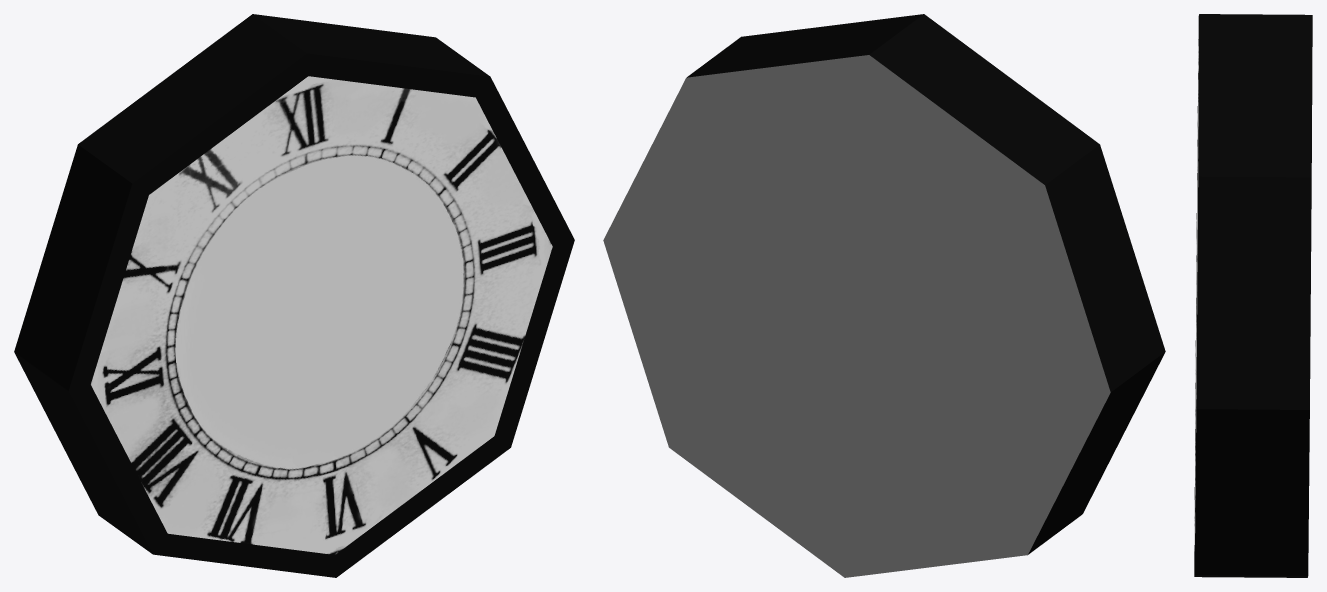
File: clock 1.fbx
The picture shows the model from 3 angles, left to right: view 1: azimuth 30°, elevation 25°; view 2: azimuth 150°, elevation 25°; view 3: azimuth 270°, elevation 25°; orthographic projection. The views are drawn at different scales.
Visible parts, largest first — view 1: pCylinder1; view 2: pCylinder1; view 3: pCylinder1.
Part boxes in pixels (x1,y1,x2,y2): pCylinder1: (14,14,574,577); pCylinder1: (603,14,1165,577); pCylinder1: (1194,14,1312,577).
Size of the model in its own units: 9.89 by 9.91 by 1.93.
